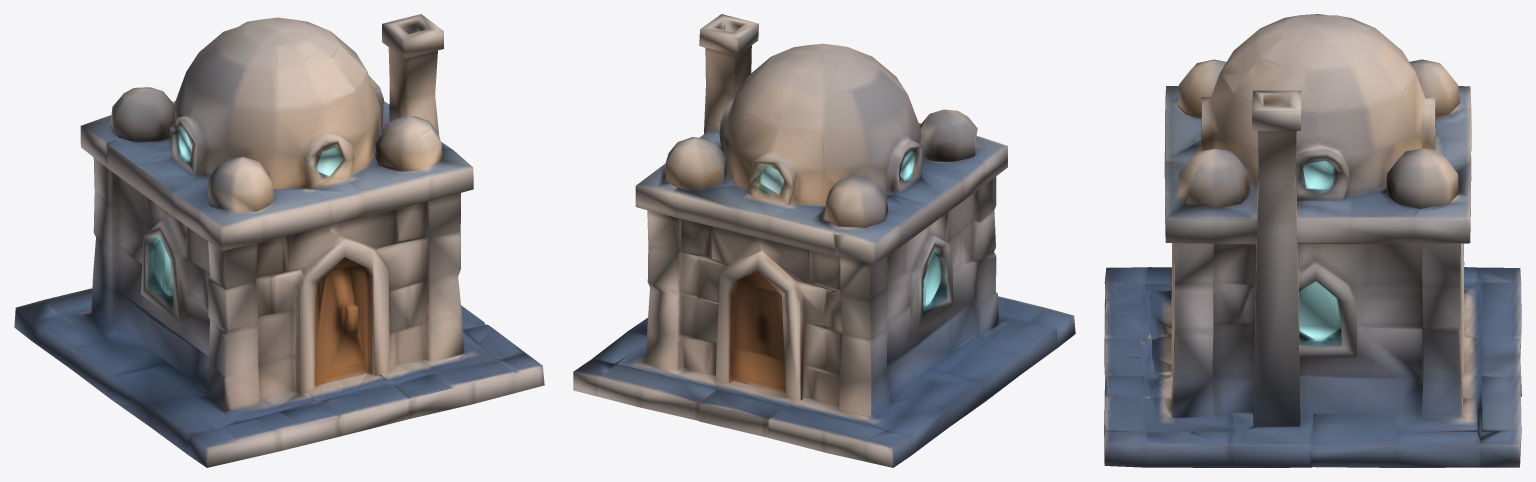
File: hamam.glb
3 views of the same model, side by side, from view 1: azimuth 30°, elevation 25°; view 2: azimuth 150°, elevation 25°; view 3: azimuth 270°, elevation 25° (orthographic). The views are drawn at different scales.
Parts seen in each view (by area): view 1: node_0; view 2: node_0; view 3: node_0.
Boxes of the visible parts, x1,y1,x2,y2 form: node_0: (14, 14, 544, 467); node_0: (573, 14, 1075, 467); node_0: (1104, 14, 1521, 467).
Bounding box in the file's own units: 0.7171 × 0.6628 × 0.7085.
Materials: 1 (1 with a texture image).
